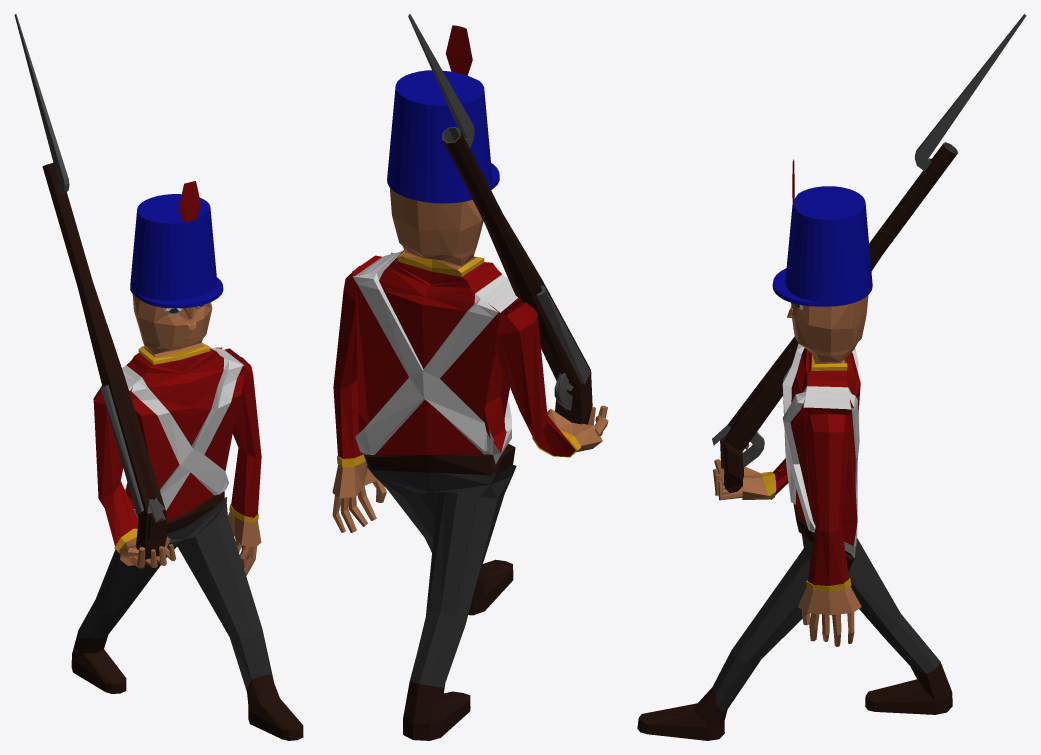
Rendered from Infantry_000115.obj.
3 views of the same model, side by side, from view 1: azimuth 30°, elevation 25°; view 2: azimuth 150°, elevation 25°; view 3: azimuth 270°, elevation 25° (orthographic). The views are drawn at different scales.
Visible parts, largest first — view 1: {Man}_Circle, {Mesket}_Cube.001; view 2: {Man}_Circle, {Mesket}_Cube.001; view 3: {Man}_Circle, {Mesket}_Cube.001.
Part boxes in pixels (<box>): {Man}_Circle: <box>71,181,303,740</box>; {Mesket}_Cube.001: <box>14,14,167,559</box>; {Man}_Circle: <box>332,25,608,740</box>; {Mesket}_Cube.001: <box>408,14,592,424</box>; {Man}_Circle: <box>637,159,952,740</box>; {Mesket}_Cube.001: <box>712,14,1026,493</box>.
Size of the model in its own units: 5.63 by 18.84 by 9.81.
